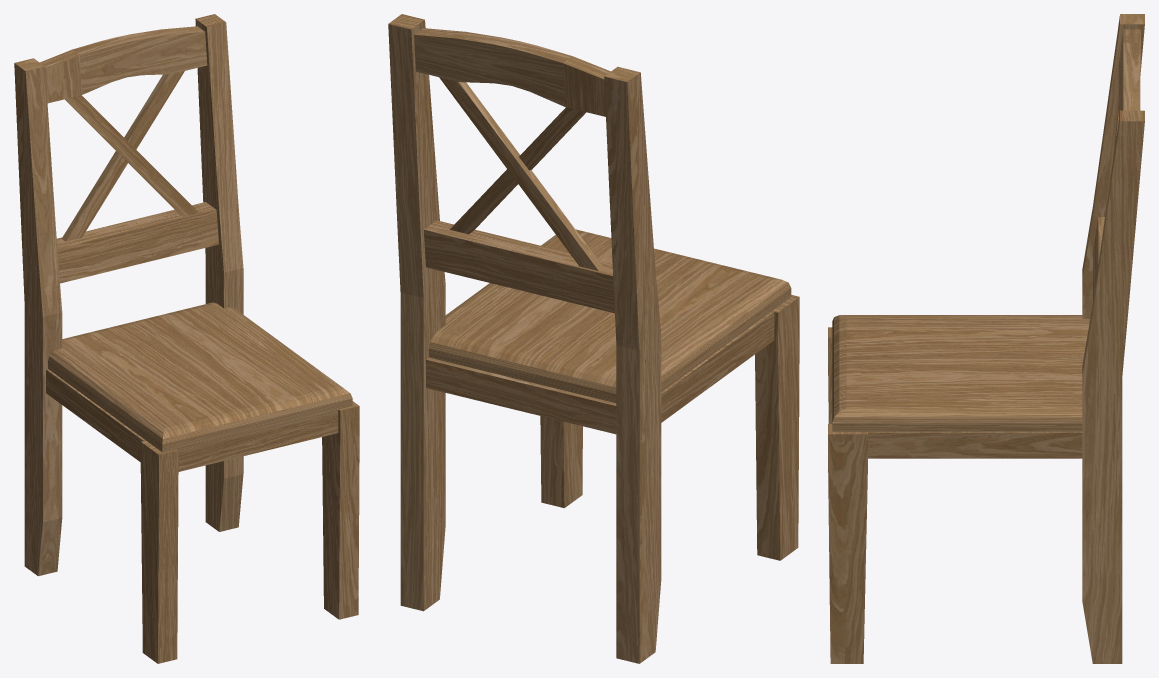
The model's file is _chair-00000.fbx.
The picture shows the model from 3 angles, left to right: view 1: azimuth 30°, elevation 25°; view 2: azimuth 150°, elevation 25°; view 3: azimuth 270°, elevation 25°; orthographic projection. The views are drawn at different scales.
Visible parts, largest first — view 1: CHAIR, CHAIR_SEAT; view 2: CHAIR, CHAIR_SEAT; view 3: CHAIR, CHAIR_SEAT.
Boxes of the visible parts, bbox=[...] form: CHAIR: bbox=[14, 14, 359, 663]; CHAIR_SEAT: bbox=[48, 302, 352, 452]; CHAIR: bbox=[388, 14, 799, 663]; CHAIR_SEAT: bbox=[429, 229, 791, 402]; CHAIR: bbox=[828, 14, 1144, 663]; CHAIR_SEAT: bbox=[832, 315, 1090, 431].
Size of the model in its own units: 0.4 by 0.95 by 0.5.
